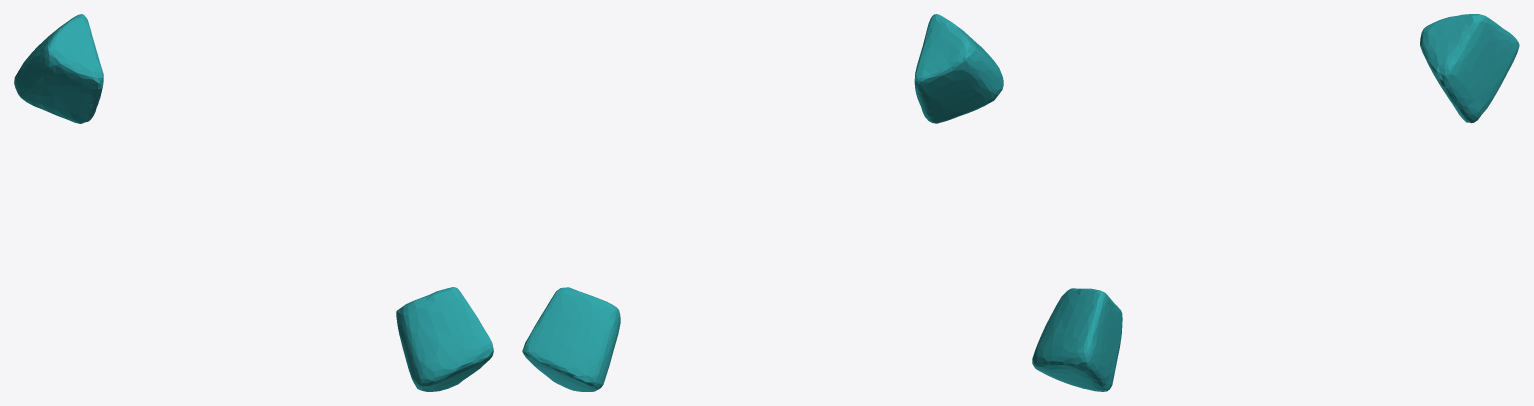
3 renders of one model, left to right at view 1: azimuth 30°, elevation 25°; view 2: azimuth 150°, elevation 25°; view 3: azimuth 330°, elevation 25°, orthographic.
Parts seen in each view (by area): view 1: 402.obj; view 2: 402.obj; view 3: 402.obj.
Part boxes in pixels (bbox=[...]): 402.obj: bbox=[14, 14, 493, 391]; 402.obj: bbox=[522, 14, 1003, 391]; 402.obj: bbox=[1032, 14, 1519, 391].
Size of the model in its own units: 754 by 1129 by 8452.
